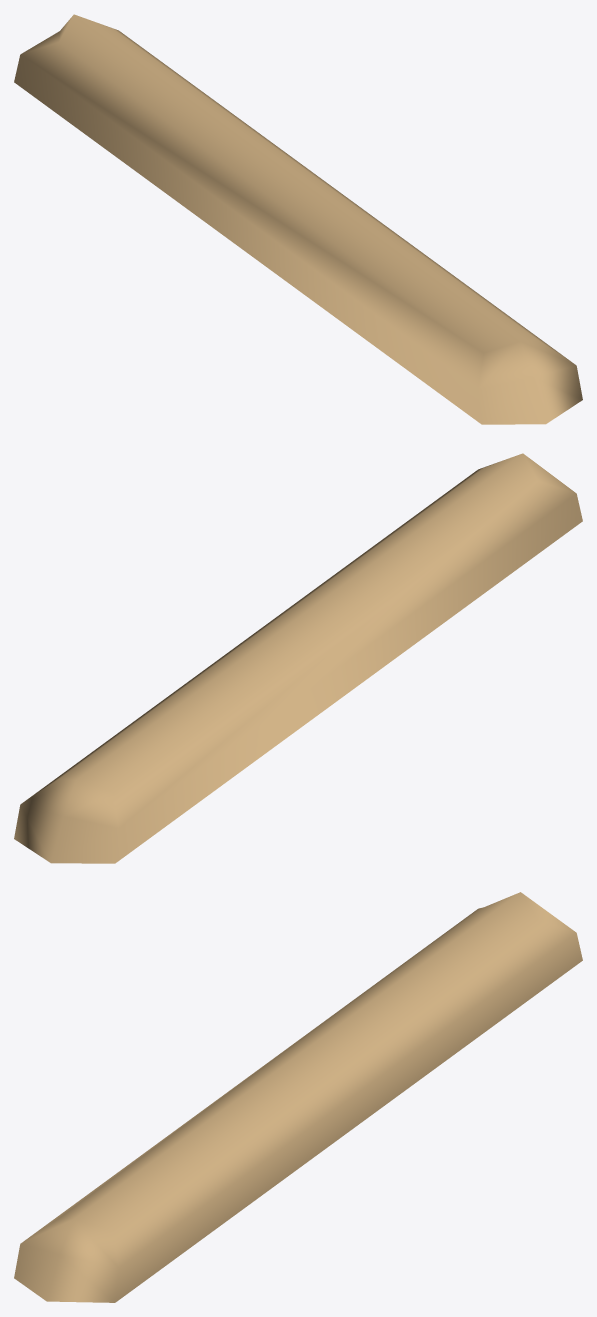
File: dirtbed.fbx
3 views of the same model, one above another, from view 1: azimuth 30°, elevation 25°; view 2: azimuth 150°, elevation 25°; view 3: azimuth 330°, elevation 25° (orthographic).
Visible parts, largest first — view 1: dirtbed; view 2: dirtbed; view 3: dirtbed.
Boxes of the visible parts, x1,y1,x2,y2 form: dirtbed: (14, 14, 582, 424); dirtbed: (14, 453, 582, 863); dirtbed: (14, 892, 582, 1302).
Size of the model in its own units: 2.86 by 1.72 by 24.43.
